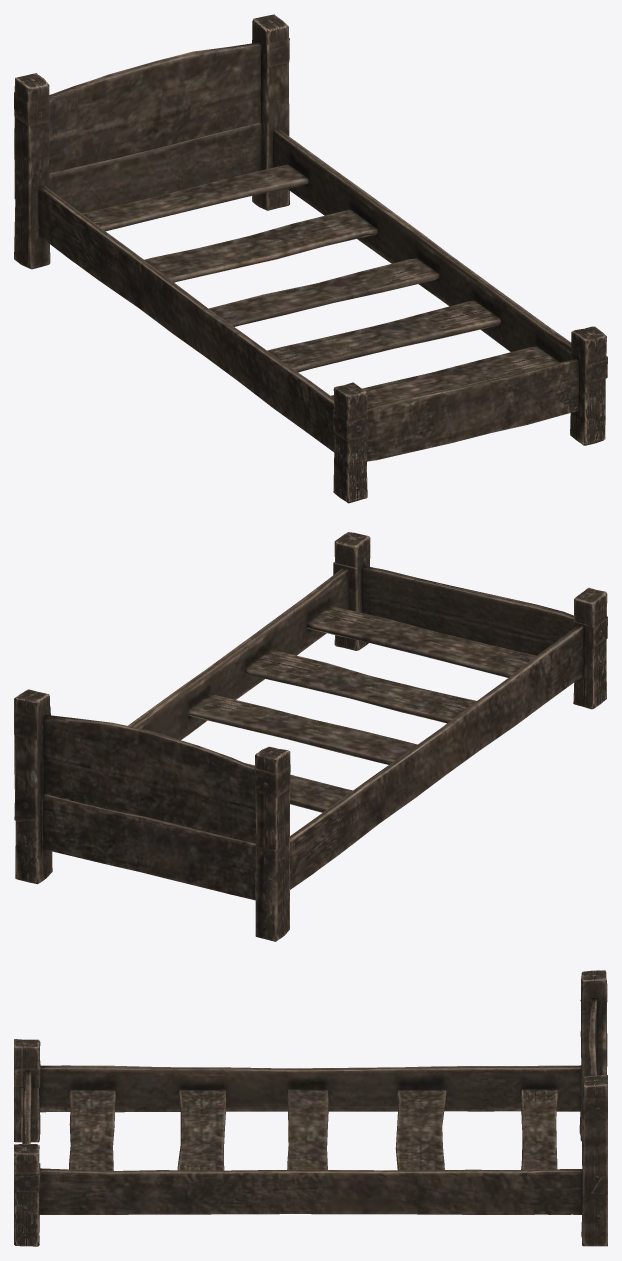
File: d_bed_frame.glb
The picture shows the model from 3 angles, top to bottom: view 1: azimuth 30°, elevation 25°; view 2: azimuth 150°, elevation 25°; view 3: azimuth 270°, elevation 25°; orthographic projection. The views are drawn at different scales.
Visible parts, largest first — view 1: d_bed_frame; view 2: d_bed_frame; view 3: d_bed_frame.
Part boxes in pixels (left/top/right/bottom): d_bed_frame: left=14, top=14, right=607, bottom=503; d_bed_frame: left=14, top=532, right=607, bottom=941; d_bed_frame: left=14, top=970, right=607, bottom=1246.
Bounding box in the file's own units: 1.37 × 0.9142 × 3.
1 material, 1 textured.
